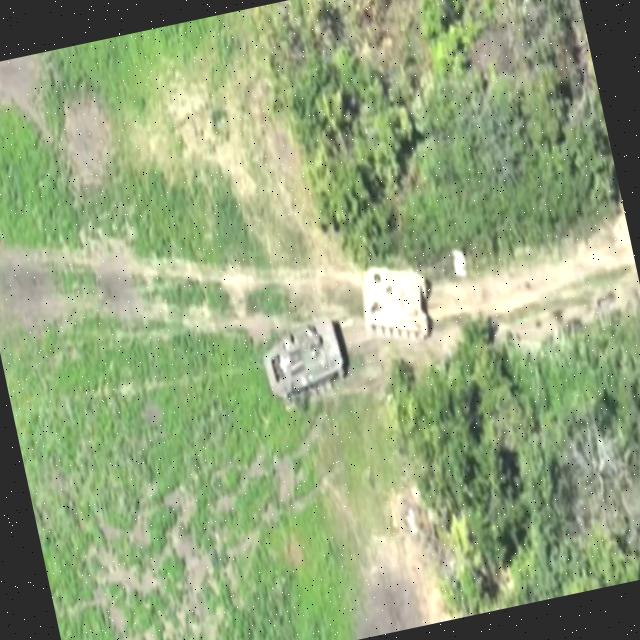AIFV: (258, 314, 355, 416)
APC: (352, 256, 440, 356)
